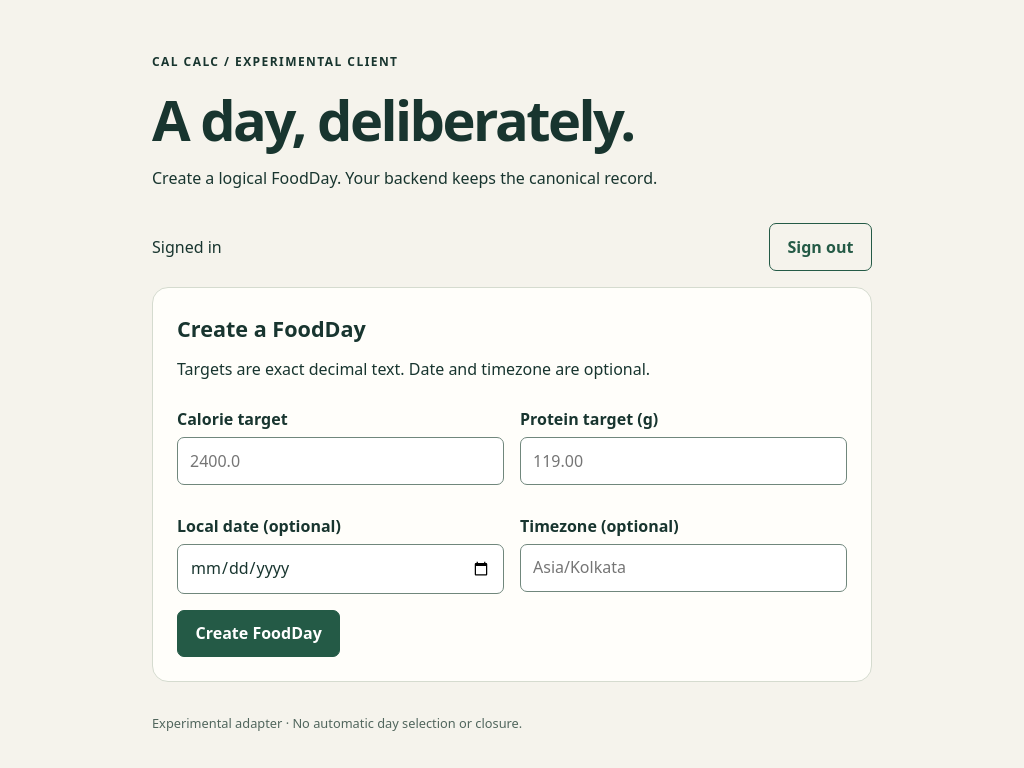
Scenario: experimental FoodDay client › retains exact command and key for an explicit retry after a network failure
The width and height of the screenshot is (1024, 768).
Expected: the heading "Create a FoodDay" is shown, [177,314,366,343]
In the field labelled "Calorie target": {"x": 340, "y": 461} [177,437,504,485], type "685.107500"
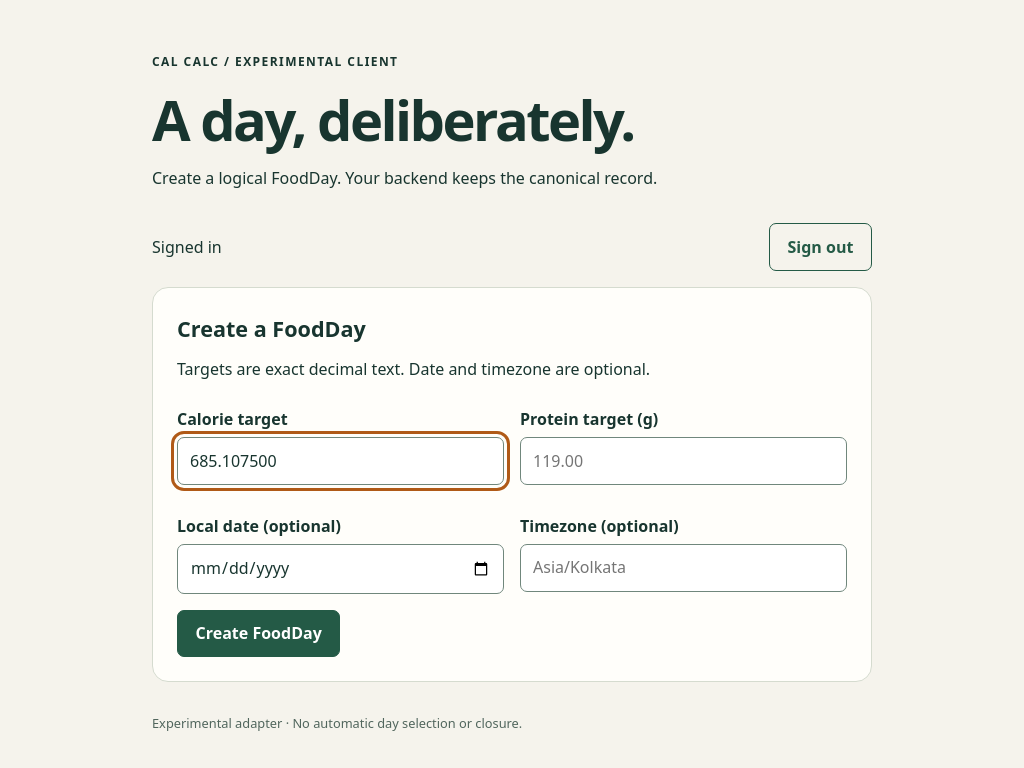
In the field labelled "Protein target (g)": {"x": 684, "y": 461} [520,437,847,485], type "41.002500"
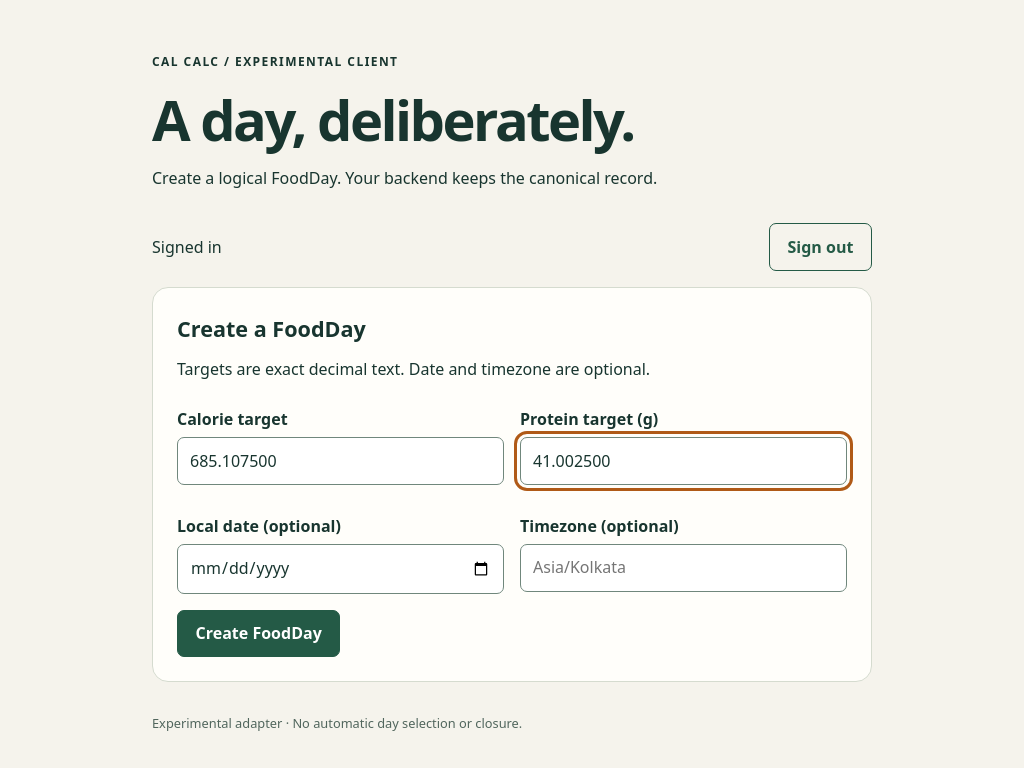
Click the button "Create FoodDay": {"x": 259, "y": 633} [177,610,340,657]
(page scrolled)
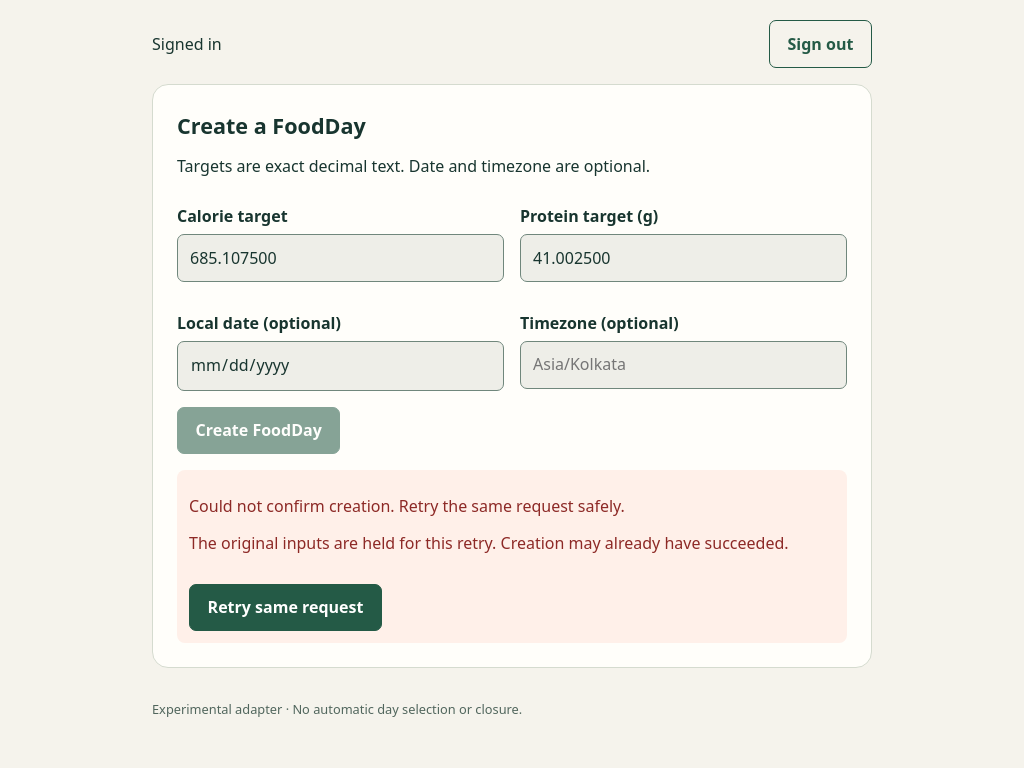
Expected: the field labelled "Calorie target" is disabled, [177,234,504,282]
Result: the message shows "Could not confirm creation" at [189,495,625,517]
Click the button "Retry same request": {"x": 286, "y": 608} [189,584,382,631]
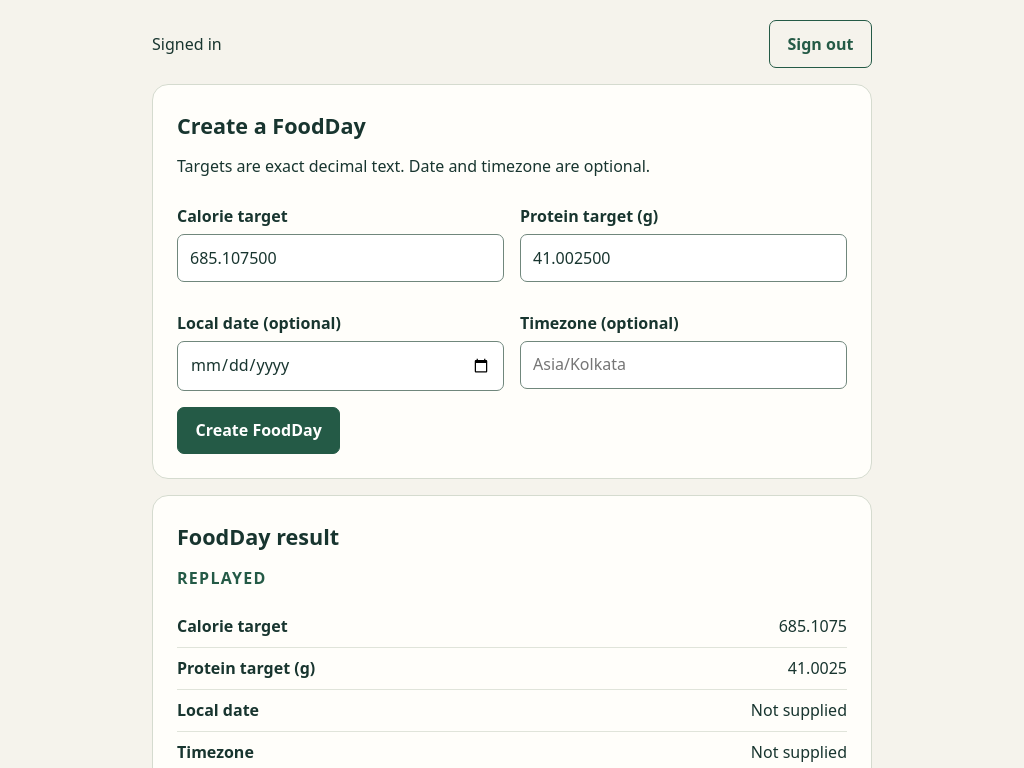
Result: the text "REPLAYED" is shown at [177,567,267,589]
